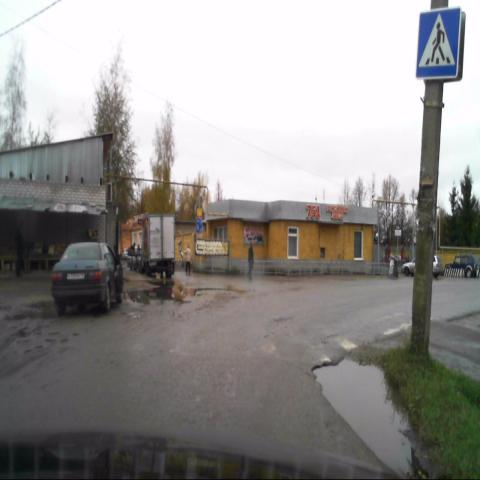5_19_1: (416, 13, 461, 81)
